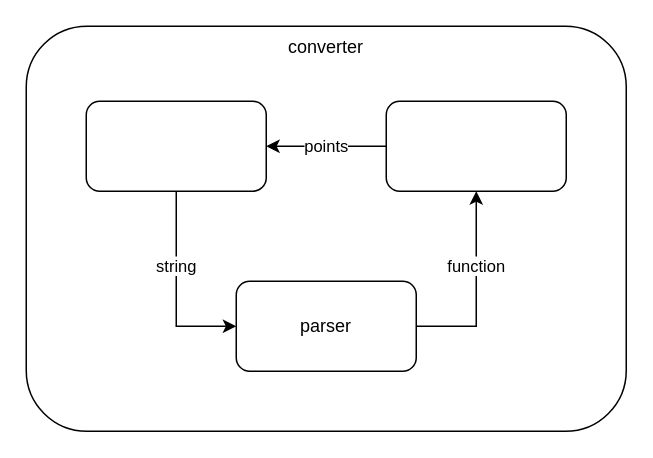
Some shapes in this 653 by 458 pixel diagram are drawn without their labels. The shapes that lost their labels are listed below. From the top down, each one's centre as x and y in pixels, then its label:
At point 175,145: "interpolator".
At point 475,145: "sampler".
